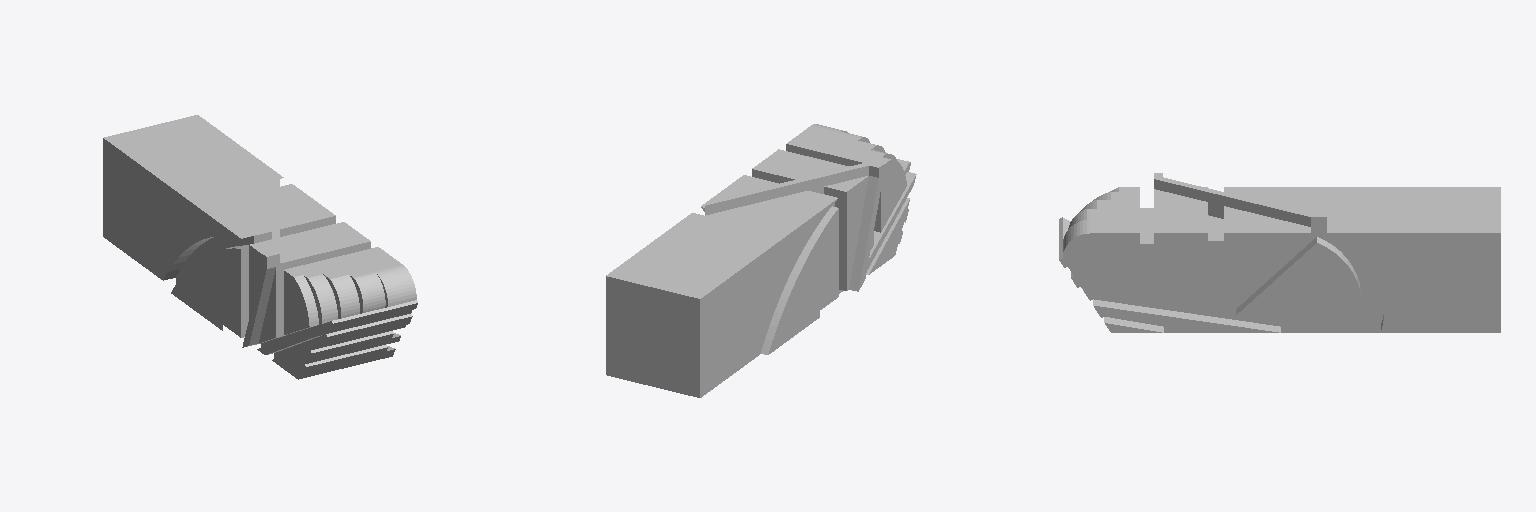
3 views of the same model, side by side, from view 1: azimuth 30°, elevation 25°; view 2: azimuth 150°, elevation 25°; view 3: azimuth 270°, elevation 25° (orthographic).
Parts seen in each view (by area): view 1: Skyscraper; view 2: Skyscraper; view 3: Skyscraper.
Part boxes in pixels (left/top/right/bottom): Skyscraper: left=103, top=115, right=417, bottom=379; Skyscraper: left=606, top=124, right=916, bottom=397; Skyscraper: left=1059, top=173, right=1500, bottom=332.
Bounding box in the file's own units: 33 × 35 × 121.